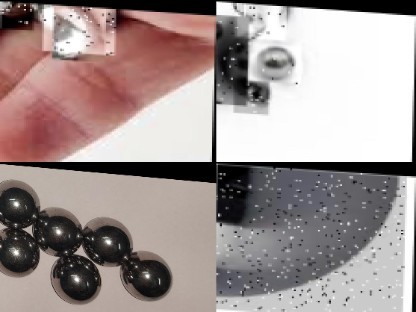ironball: (216, 162, 406, 312), (47, 252, 114, 308), (42, 2, 116, 52), (119, 251, 181, 300), (216, 13, 249, 104), (34, 201, 87, 256), (82, 216, 133, 272), (249, 36, 302, 81), (0, 175, 39, 228), (235, 1, 286, 38), (0, 231, 36, 274), (234, 76, 269, 112), (0, 0, 33, 28)
